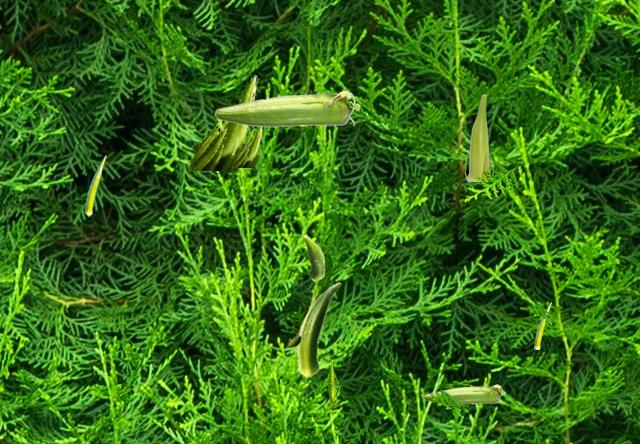okra: (187, 74, 258, 169), (214, 90, 359, 126), (296, 282, 340, 377), (464, 94, 492, 180), (423, 384, 504, 403), (231, 127, 262, 166), (85, 155, 105, 215), (302, 234, 324, 280), (534, 302, 550, 348), (328, 360, 335, 406)
